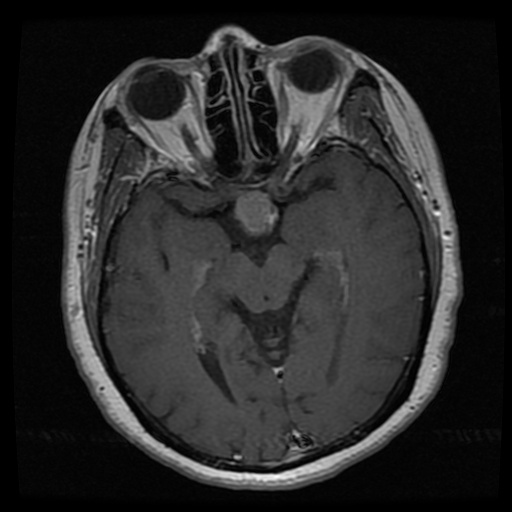pituitary: (234, 190, 277, 233)
